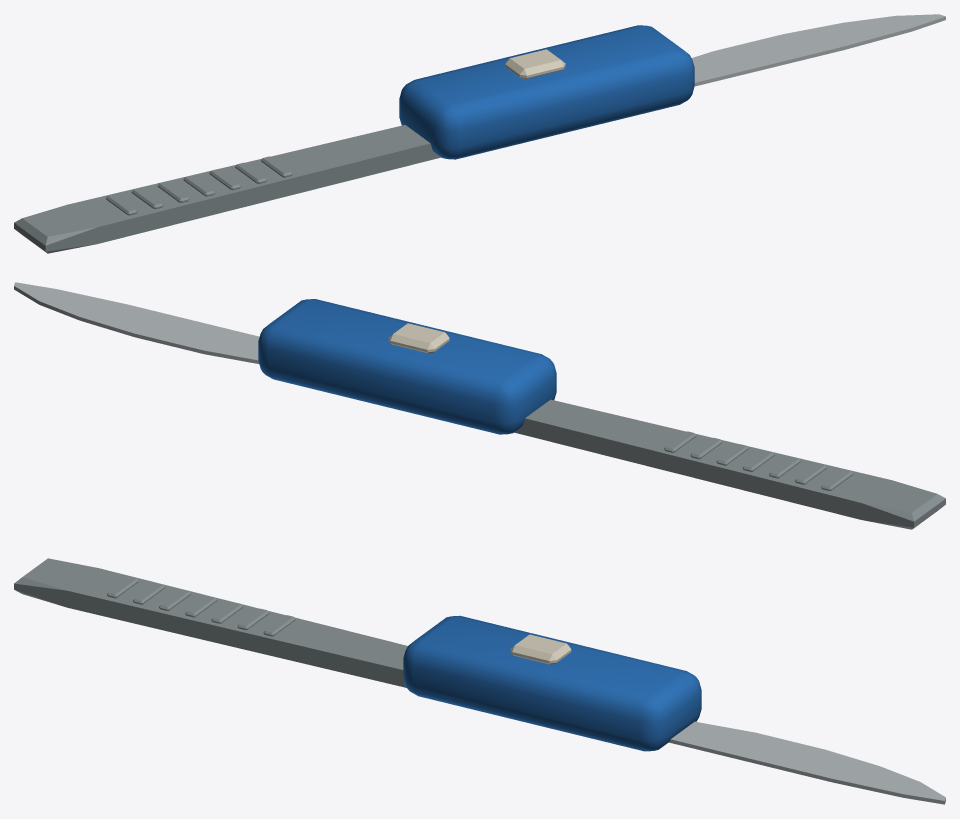
Rendered from sc-scalpel.glb.
The picture shows the model from 3 angles, top to bottom: view 1: azimuth 30°, elevation 25°; view 2: azimuth 150°, elevation 25°; view 3: azimuth 330°, elevation 25°; orthographic projection.
Visible parts, largest first — view 1: sc-scalpel; view 2: sc-scalpel; view 3: sc-scalpel.
Boxes of the visible parts, <box> form: sc-scalpel: <box>14,14,945,253</box>; sc-scalpel: <box>14,282,945,529</box>; sc-scalpel: <box>14,558,945,804</box>.
Bounding box in the file's own units: 0.1585 × 0.0105 × 0.0155.
